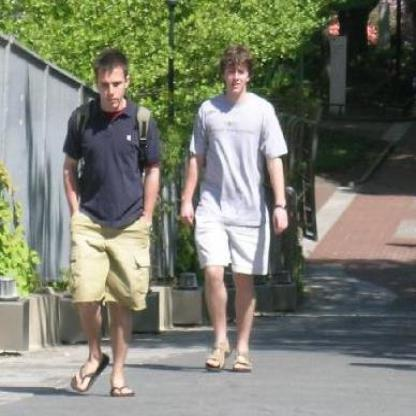person: (50, 48, 159, 399), (177, 45, 289, 372)
